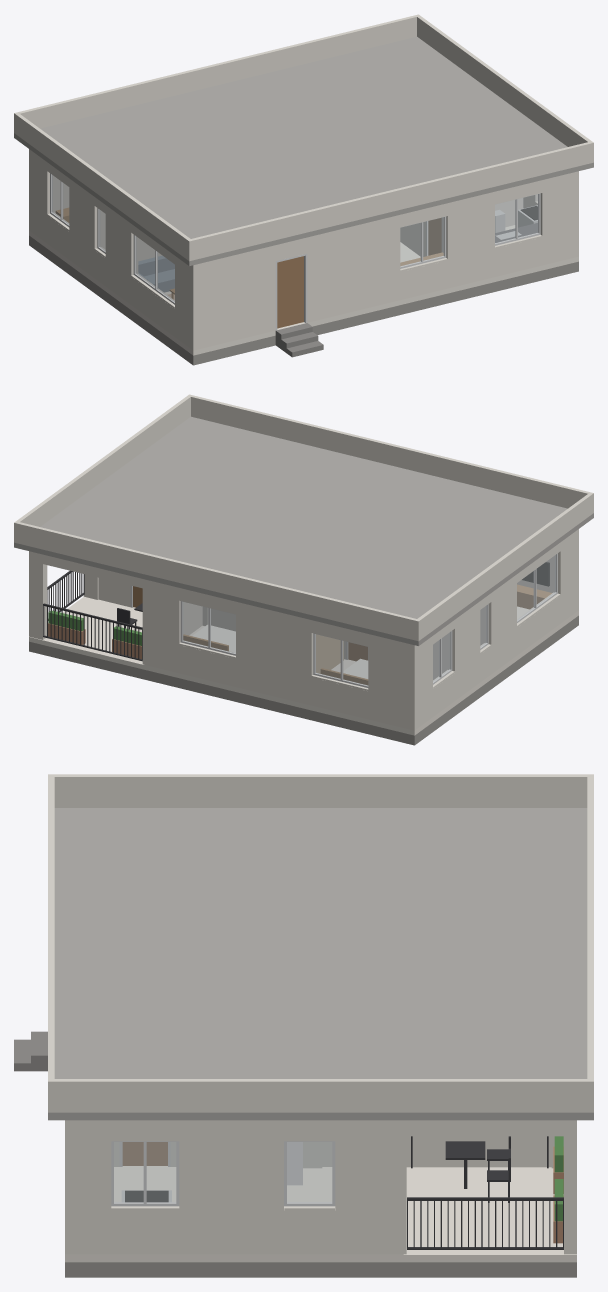
3 renders of one model, top to bottom at view 1: azimuth 30°, elevation 25°; view 2: azimuth 150°, elevation 25°; view 3: azimuth 270°, elevation 25°, orthographic. The views are drawn at different scales.
Visible parts, largest first — view 1: Roof, Walls, Parapet, Glass, Plinth, Floor, Frames, Doors, Lintels, Steps, F_fabric, Sills (+1 smaller); view 2: Roof, Walls, Parapet, Glass, Plinth, Floor, Rail, Columns, Frames, Beams, F_wood, Lintels (+6 smaller); view 3: Roof, Parapet, Walls, Floor, Plinth, Glass, Rail, Columns, Beams, Frames, F_metal, Steps (+4 smaller).
Boxes of the visible parts, x1,y1,x2,y2 form: Roof: (14,36,593,265); Walls: (29,149,578,350); Parapet: (14,14,593,261); Glass: (52,175,538,301); Plinth: (29,235,578,365); Floor: (29,225,578,355); Frames: (50,173,540,330); Doors: (277,218,441,328); Lintels: (47,166,542,264); Steps: (275,323,323,357); F_fabric: (138,255,174,292); Sills: (47,201,542,308); Roof: (14,416,593,645); Walls: (98,529,578,730); Parapet: (14,394,593,641); Glass: (183,555,555,685); Plinth: (29,615,578,745); Floor: (29,596,578,735); Rail: (43,570,142,661); Columns: (29,551,208,664); Frames: (130,553,557,687); Beams: (36,545,560,642); F_wood: (183,584,551,685); Lintels: (179,548,560,646); Roof: (48,808,593,1120); Parapet: (48,774,593,1112); Walls: (65,1120,551,1254); Floor: (65,1166,576,1262); Plinth: (65,1262,576,1277); Glass: (114,1142,331,1202); Rail: (407,1197,563,1249); Columns: (303,1120,576,1254); Beams: (135,1120,570,1136); Frames: (111,1141,335,1206); F_metal: (411,1136,548,1202); Steps: (14,1031,47,1071).
Size of the model in its own units: 12.83 by 3.95 by 10.23.
